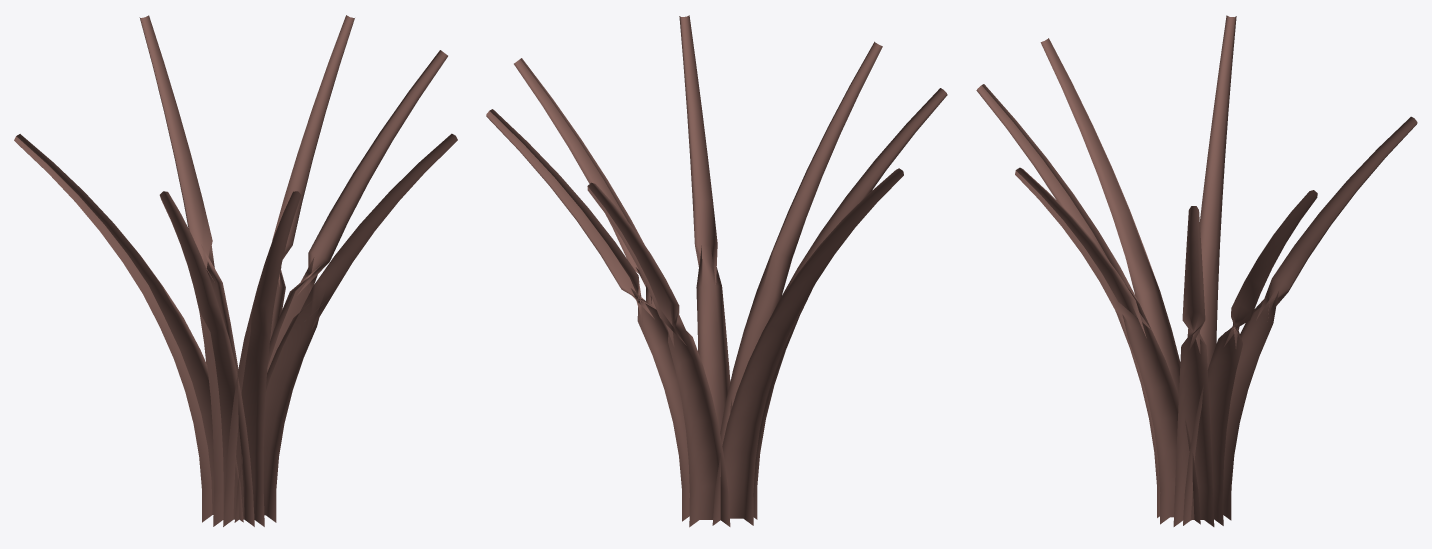
The model's file is relationships-signature.gltf.
The picture shows the model from 3 angles, left to right: view 1: azimuth 30°, elevation 25°; view 2: azimuth 150°, elevation 25°; view 3: azimuth 270°, elevation 25°; orthographic projection. The views are drawn at different scales.
Parts seen in each view (by area): view 1: relationships-signature; view 2: relationships-signature; view 3: relationships-signature.
Boxes of the visible parts, x1,y1,x2,y2 form: relationships-signature: (14,15,457,526); relationships-signature: (486,15,947,527); relationships-signature: (976,15,1417,526).
Size of the model in its own units: 2.18 by 2.11 by 2.06.
